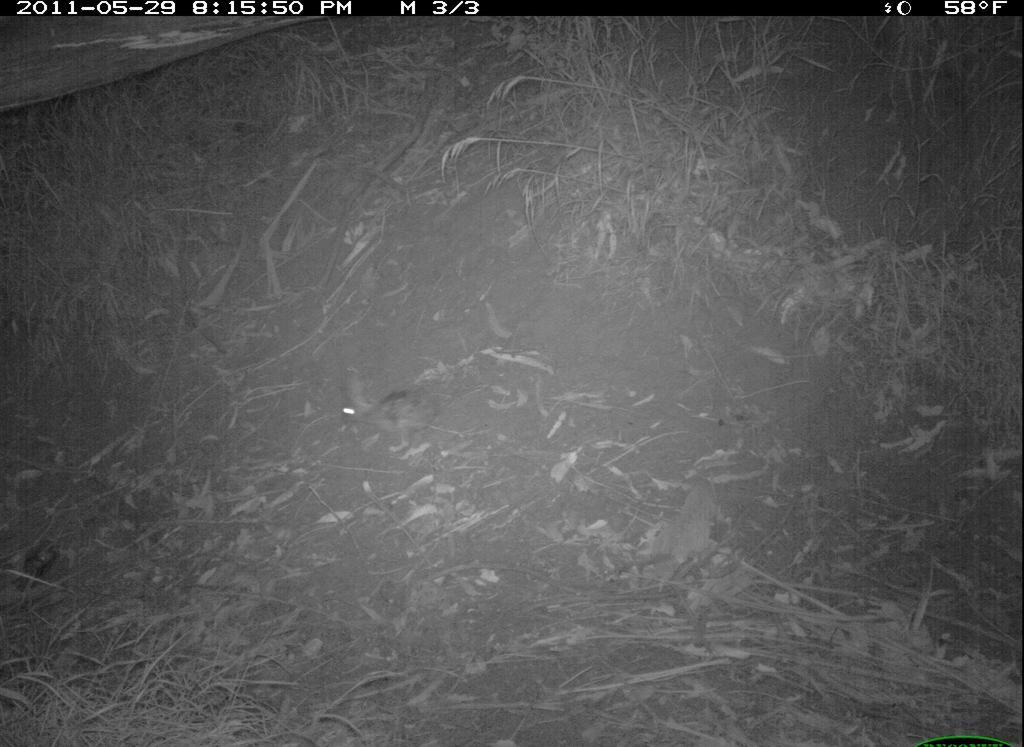rabbit: (315, 360, 443, 450)
